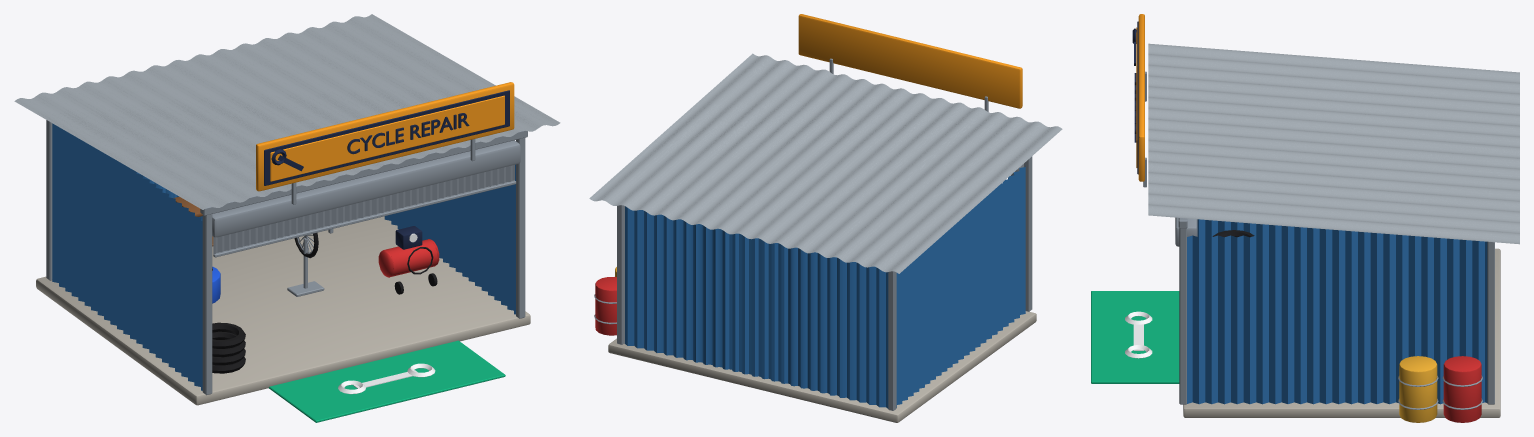
The model's file is cycle-repair-shop.glb.
The picture shows the model from 3 angles, left to right: view 1: azimuth 30°, elevation 25°; view 2: azimuth 150°, elevation 25°; view 3: azimuth 270°, elevation 25°; orthographic projection. The views are drawn at different scales.
Parts seen in each view (by area): view 1: CycleRepairShop; view 2: CycleRepairShop; view 3: CycleRepairShop.
Part boxes in pixels (x1,y1,x2,y2): CycleRepairShop: (14,14,560,422); CycleRepairShop: (589,14,1062,422); CycleRepairShop: (1091,14,1519,422).
Size of the model in its own units: 6.77 by 4.58 by 6.75.
